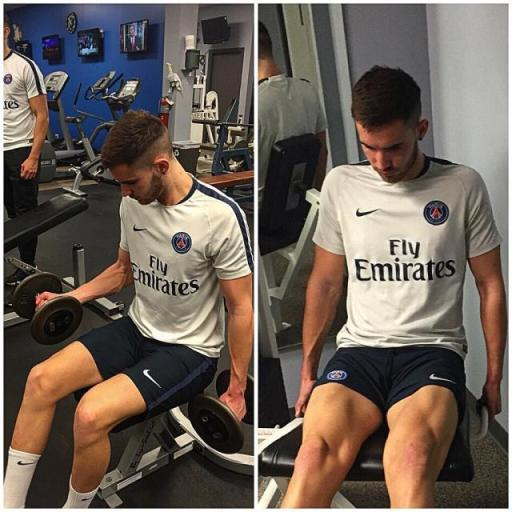Emirates: (352, 236, 456, 284), (129, 253, 204, 300)
